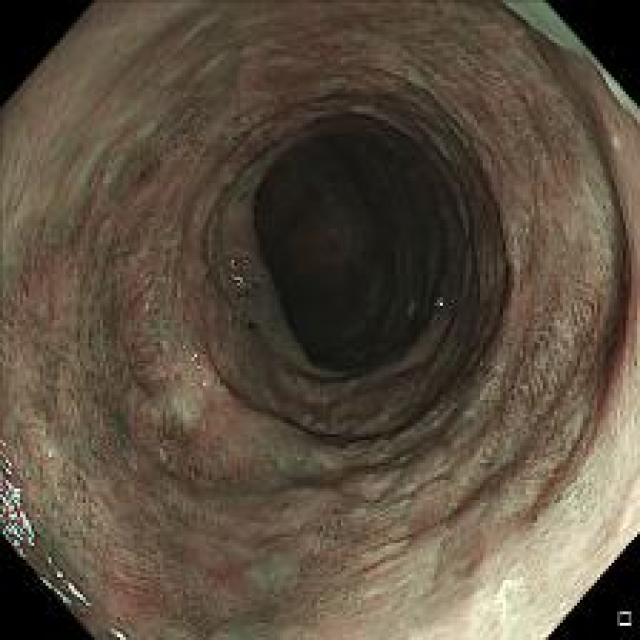color misalignment: (0, 436, 36, 552), (40, 552, 92, 610), (189, 352, 204, 376), (108, 626, 128, 638), (44, 446, 54, 458)
contrast: (259, 131, 435, 365)
saturation: (450, 508, 611, 626)
specularity: (1, 439, 35, 552), (39, 551, 96, 618), (105, 619, 134, 639), (234, 272, 242, 284), (225, 261, 235, 269)
